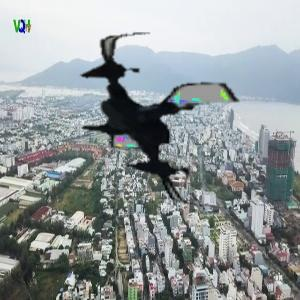drone: (70, 24, 262, 216)
